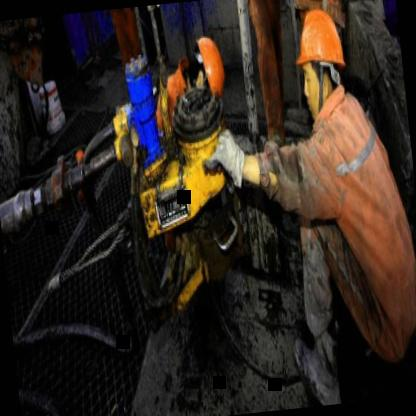helmet: (285, 0, 353, 121), (180, 34, 228, 109)
